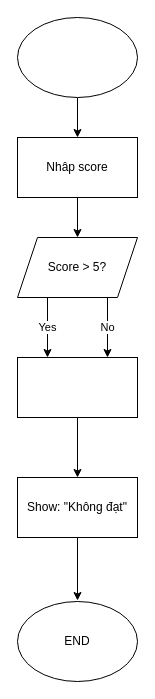
The diagram is 155 pixels wide and 699 high, and some of its shapes have lost their labels. The centre of each missing label's shape, as x and y in pixels:
Show: "Đạt": point (77, 387)
Start: point (77, 57)
